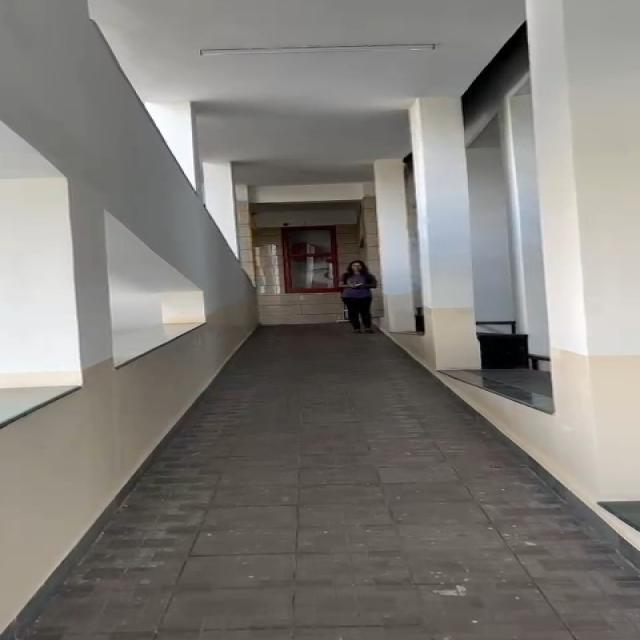floor: (166, 367, 549, 640)
moving_object: (321, 257, 392, 332)
wall: (0, 0, 252, 452), (272, 9, 620, 245)
